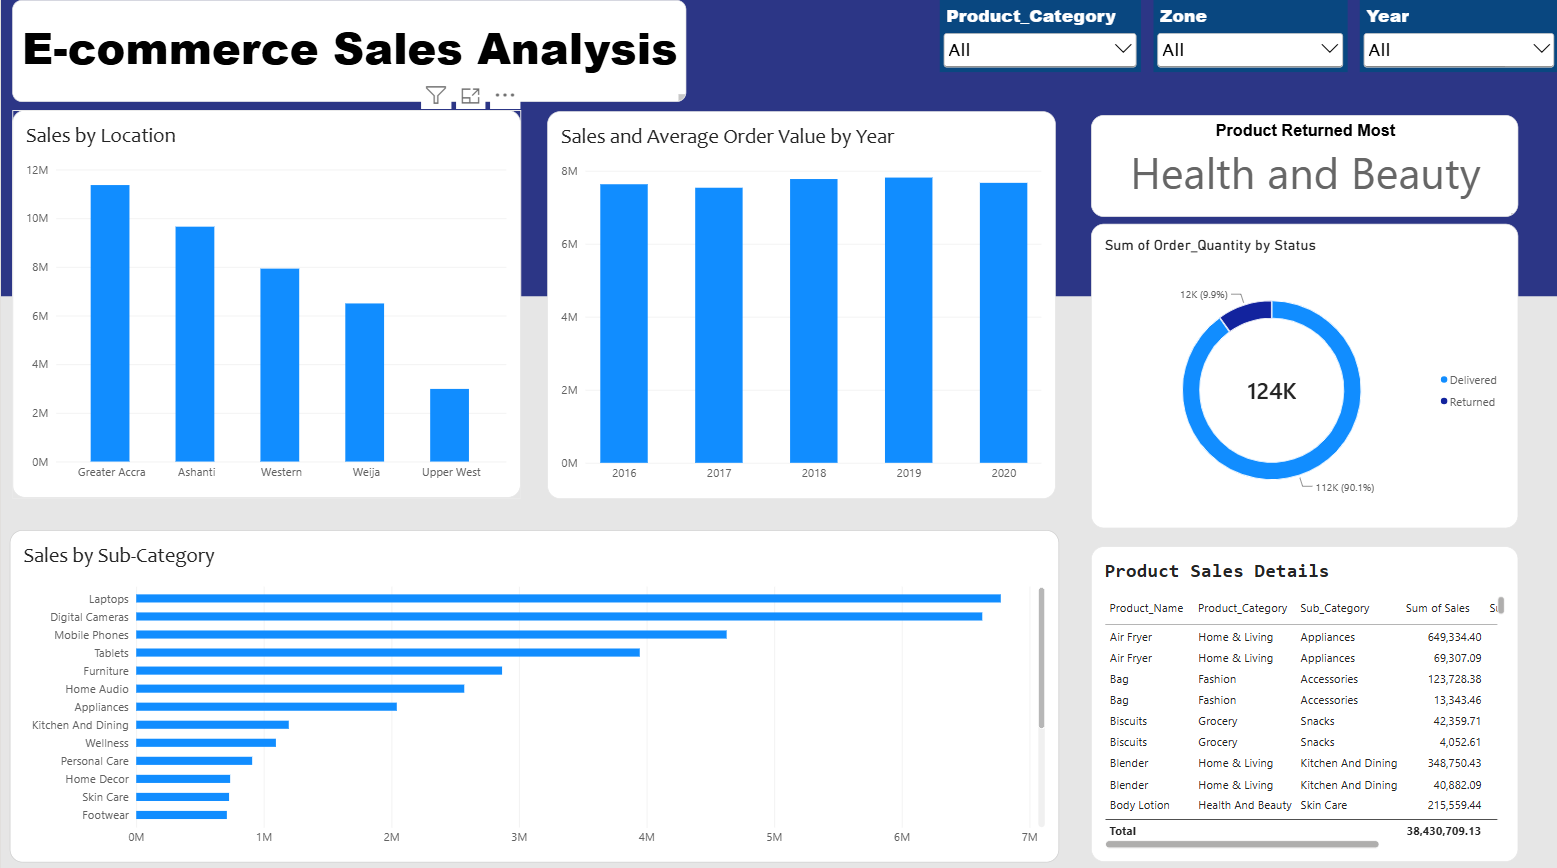

The page's visual inventory and layout, read from the dashboard file:
{"tool":"powerbi","page":{"name":"Page 1","canvas":[1920,1080],"ordinal":0},"visuals":[{"type":"textbox","title":"E-commerce Sales Analysis","box":[14,0,830.2,125.6],"z":0},{"type":"textbox","box":[0,364.5,1920.4,716.9],"z":1000},{"type":"columnChart","title":"Sales by Location","fields":{"Category":["Ecommerce_Sales.Zone"],"Y":["Ecommerce_Sales.Total Sales"]},"box":[14,136,626.2,477.9],"z":2000},{"type":"clusteredBarChart","title":"Sales by Sub-Category","fields":{"Y":["Sum(Ecommerce_Sales.Sales)"],"Category":["Ecommerce_Sales.Sub_Category"]},"box":[10.5,652.3,1292.4,409.9],"z":3000},{"type":"donutChart","fields":{"Category":["Ecommerce_Sales.Status"],"Y":["Sum(Ecommerce_Sales.Order_Quantity)"]},"box":[1343,275.6,526.7,375],"z":4000},{"type":"tableEx","title":"Product Sales Details","fields":{"Values":["Ecommerce_Sales.Product_Name","Ecommerce_Sales.Product_Category","Ecommerce_Sales.Sub_Category","Sum(Ecommerce_Sales.Sales)","Sum(Ecommerce_Sales.Order_Quantity)","Ecommerce_Sales.Status"]},"box":[1343,673.3,526.7,389],"z":5000},{"type":"columnChart","title":"Sales and Average Order Value by Year","fields":{"Category":["Ecommerce_Sales.Year"],"Y":["Sum(Ecommerce_Sales.Sales)"]},"box":[673.3,137.8,626.2,477.9],"z":6000},{"type":"textbox","title":"Product Returned Most","box":[1343,141.3,526.7,125.6],"z":7000},{"type":"slicer","fields":{"Values":["Ecommerce_Sales.Product_Category"]},"box":[1156.4,0,247.7,89],"z":8000},{"type":"slicer","fields":{"Values":["Ecommerce_Sales.Zone"]},"box":[1419.8,0,239,89],"z":9000},{"type":"slicer","fields":{"Values":["Ecommerce_Sales.Year"]},"box":[1674.4,0,245.9,89],"z":10000}]}

Visuals, with their boxes in screenshot pixels (x1, y1, x2, y2), scaled from the page's 1920x1080 canvas onto the 1557x868 screenshot:
"E-commerce Sales Analysis" textbox: bbox=[11, 0, 685, 101]
textbox: bbox=[0, 293, 1556, 867]
"Sales by Location" columnChart: bbox=[11, 109, 519, 493]
"Sales by Sub-Category" clusteredBarChart: bbox=[9, 524, 1057, 854]
donutChart - Ecommerce_Sales.Status x Sum(Ecommerce_Sales.Order_Quantity): bbox=[1089, 222, 1516, 523]
"Product Sales Details" tableEx: bbox=[1089, 541, 1516, 854]
"Sales and Average Order Value by Year" columnChart: bbox=[546, 111, 1054, 495]
"Product Returned Most" textbox: bbox=[1089, 114, 1516, 215]
slicer - Ecommerce_Sales.Product_Category: bbox=[938, 0, 1139, 72]
slicer - Ecommerce_Sales.Zone: bbox=[1151, 0, 1345, 72]
slicer - Ecommerce_Sales.Year: bbox=[1358, 0, 1556, 72]
